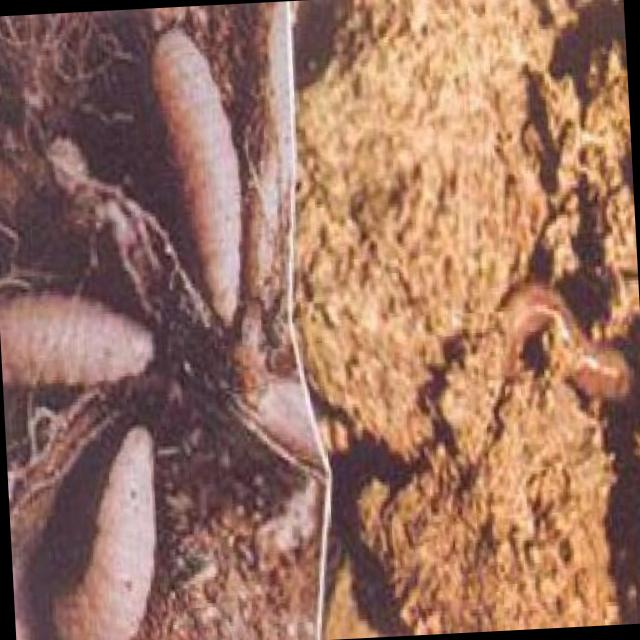whorl-maggot: (148, 29, 254, 334), (44, 422, 174, 640), (0, 287, 170, 395)
